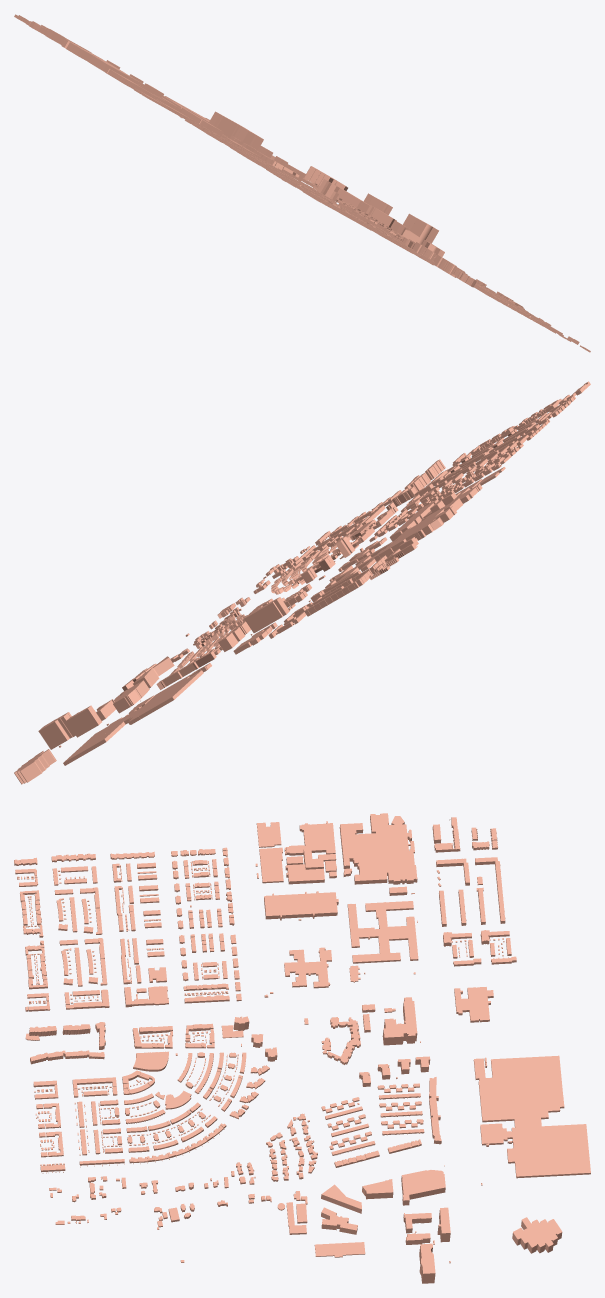
3 renders of one model, top to bottom at view 1: azimuth 30°, elevation 25°; view 2: azimuth 150°, elevation 25°; view 3: azimuth 270°, elevation 25°, orthographic. The views are drawn at different scales.
Size of the model in its own units: 1039 by 792 by 1395.
